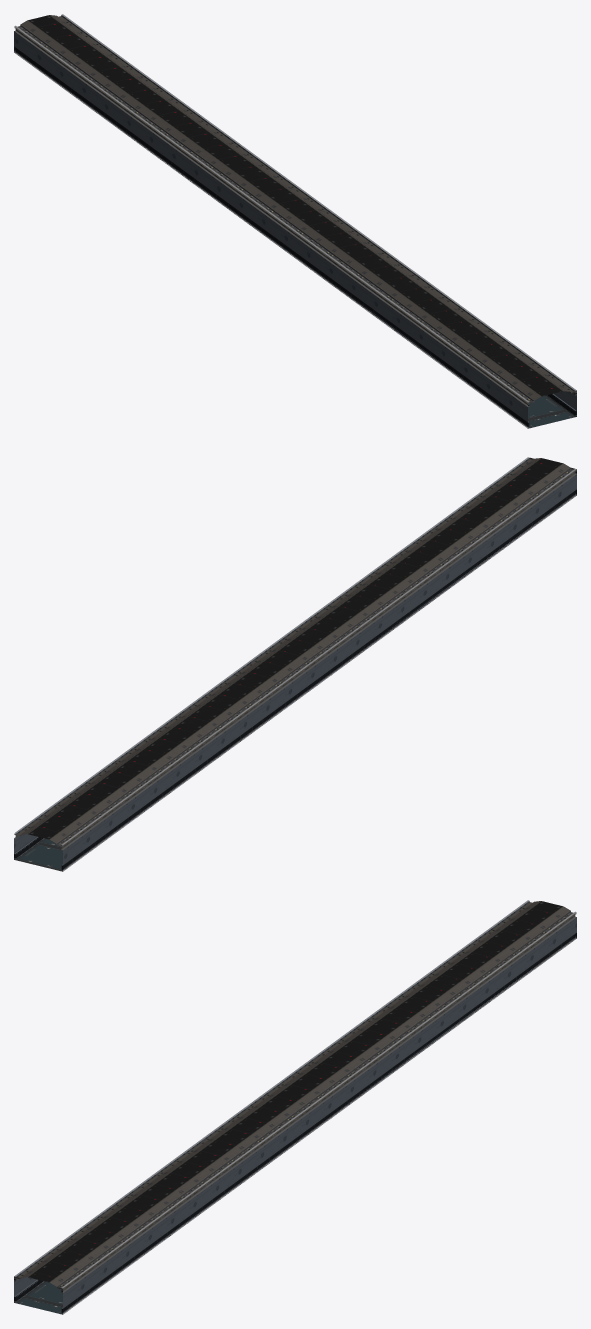
The model's file is tunnel.glb.
3 views of the same model, one above another, from view 1: azimuth 30°, elevation 25°; view 2: azimuth 150°, elevation 25°; view 3: azimuth 330°, elevation 25° (orthographic).
Visible parts, largest first — view 1: Tunnel; view 2: Tunnel; view 3: Tunnel.
Boxes of the visible parts, <box> form: Tunnel: <box>14,14,576,428</box>; Tunnel: <box>14,457,576,871</box>; Tunnel: <box>14,900,576,1314</box>.
Bounding box in the file's own units: 23.38 × 13.16 × 425.
Materials: 3 (3 with a texture image).
